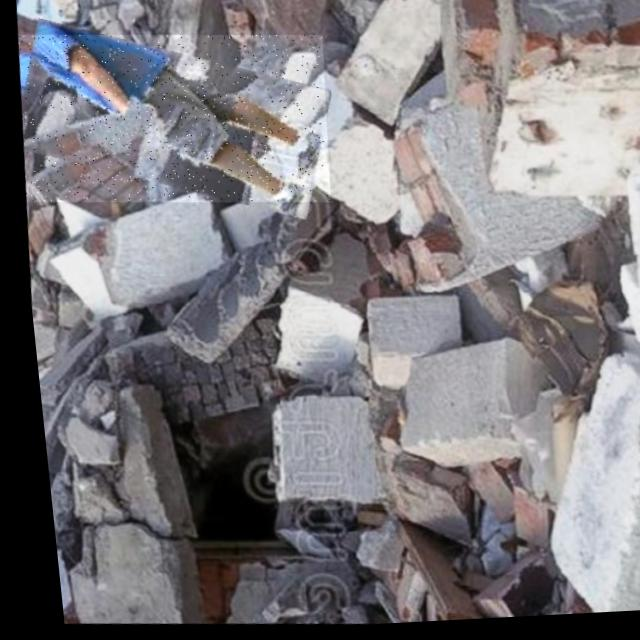Person in Rubble: (9, 22, 335, 217)
